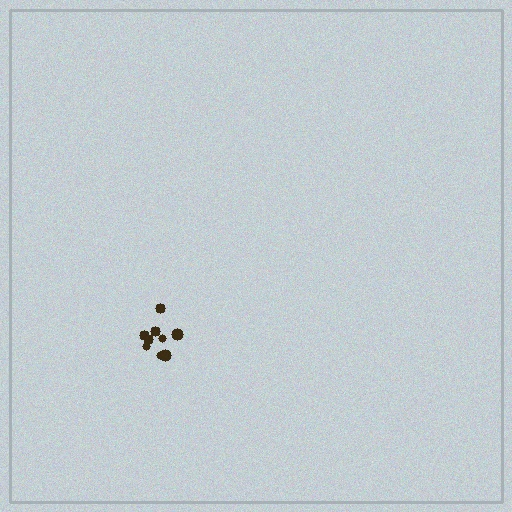contamination: (135, 299, 187, 365)
